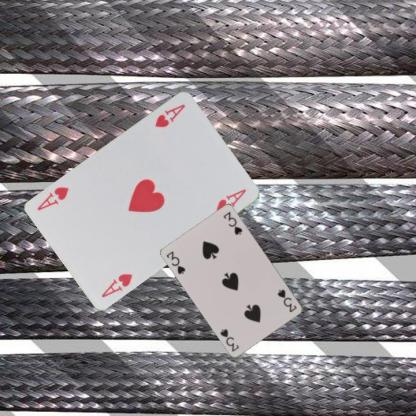3s: (275, 286, 298, 314), (164, 248, 186, 276)
Ah: (98, 270, 134, 299), (152, 101, 186, 129)
